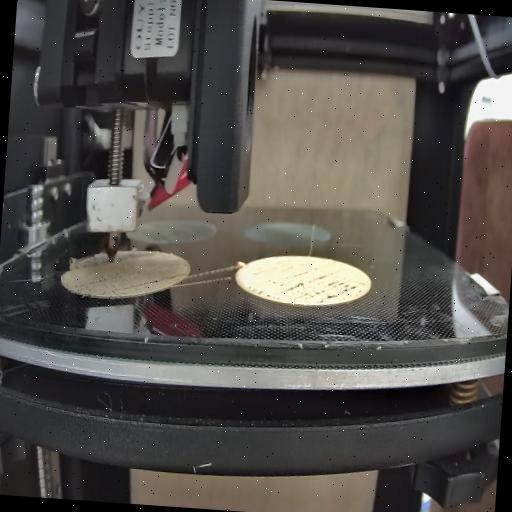under_extrusion: (244, 274, 366, 304), (110, 268, 188, 302), (60, 252, 85, 278)
